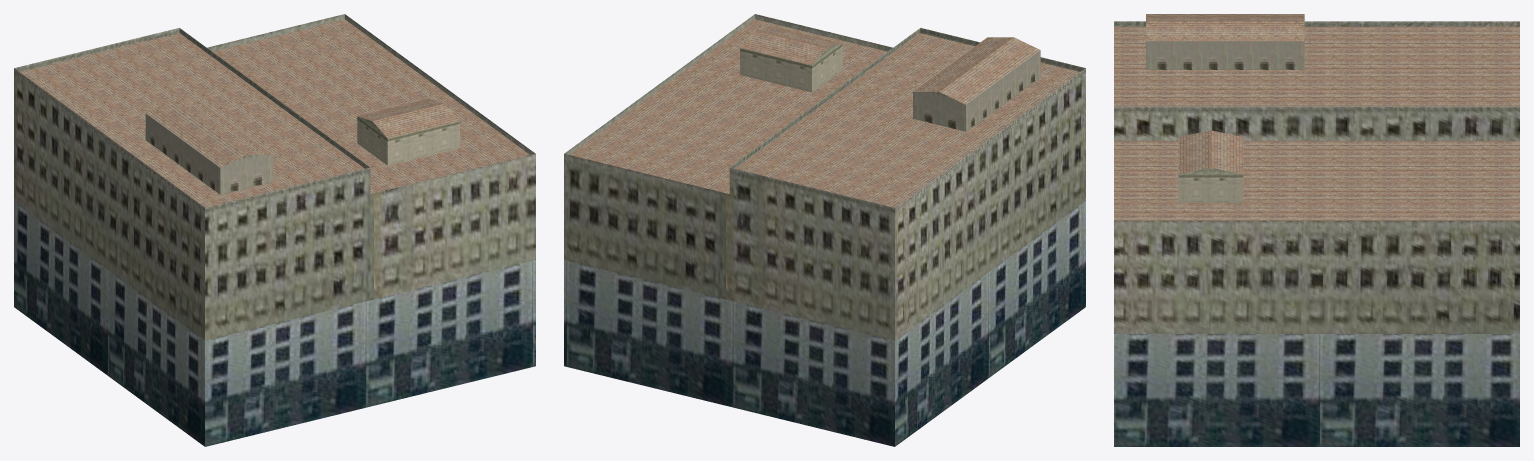
3 views of the same model, side by side, from view 1: azimuth 30°, elevation 25°; view 2: azimuth 150°, elevation 25°; view 3: azimuth 270°, elevation 25° (orthographic). The views are drawn at different scales.
Visible parts, largest first — view 1: Object_11, Object_10, Object_4, Object_5, Object_7, Object_6, Object_8, Object_9, Object_2, Object_1, Object_3; view 2: Object_11, Object_10, Object_4, Object_5, Object_7, Object_6, Object_8, Object_9, Object_2, Object_1, Object_3; view 3: Object_11, Object_10, Object_5, Object_4, Object_6, Object_7, Object_9, Object_8, Object_1, Object_2.
Part boxes in pixels (box(x1,y1,x2,y2)): Object_11: box(14, 14, 535, 340); Object_10: box(14, 201, 535, 446); Object_4: box(20, 33, 364, 207); Object_5: box(212, 19, 529, 193); Object_7: box(146, 100, 272, 167); Object_6: box(145, 113, 273, 194); Object_8: box(357, 116, 459, 165); Object_9: box(358, 98, 459, 138); Object_2: box(208, 14, 534, 198); Object_1: box(14, 28, 369, 212); Object_3: box(14, 69, 204, 212); Object_11: box(564, 14, 1085, 340); Object_10: box(564, 201, 1085, 446); Object_4: box(735, 33, 1079, 207); Object_5: box(570, 19, 887, 193); Object_7: box(913, 37, 1040, 104); Object_6: box(913, 50, 1040, 131); Object_8: box(740, 43, 842, 92); Object_9: box(740, 25, 841, 65); Object_2: box(564, 14, 890, 198); Object_1: box(730, 28, 1084, 212); Object_3: box(895, 69, 1085, 211); Object_11: box(1114, 21, 1519, 333); Object_10: box(1114, 334, 1519, 446); Object_5: box(1114, 141, 1519, 220); Object_4: box(1114, 27, 1519, 106); Object_6: box(1146, 41, 1304, 69); Object_7: box(1146, 14, 1304, 41); Object_9: box(1178, 130, 1243, 174); Object_8: box(1178, 168, 1243, 202); Object_1: box(1114, 107, 1519, 112); Object_2: box(1114, 221, 1519, 226).
Bounding box in the file's own units: 1283 × 1283 × 989.
Materials: 11 (10 with a texture image).
